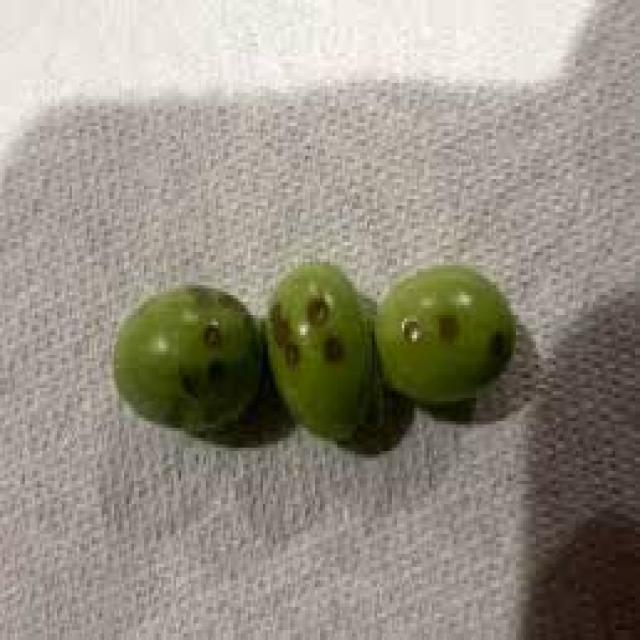Anthracnose: (114, 285, 258, 431), (374, 266, 514, 402), (268, 265, 374, 441)
